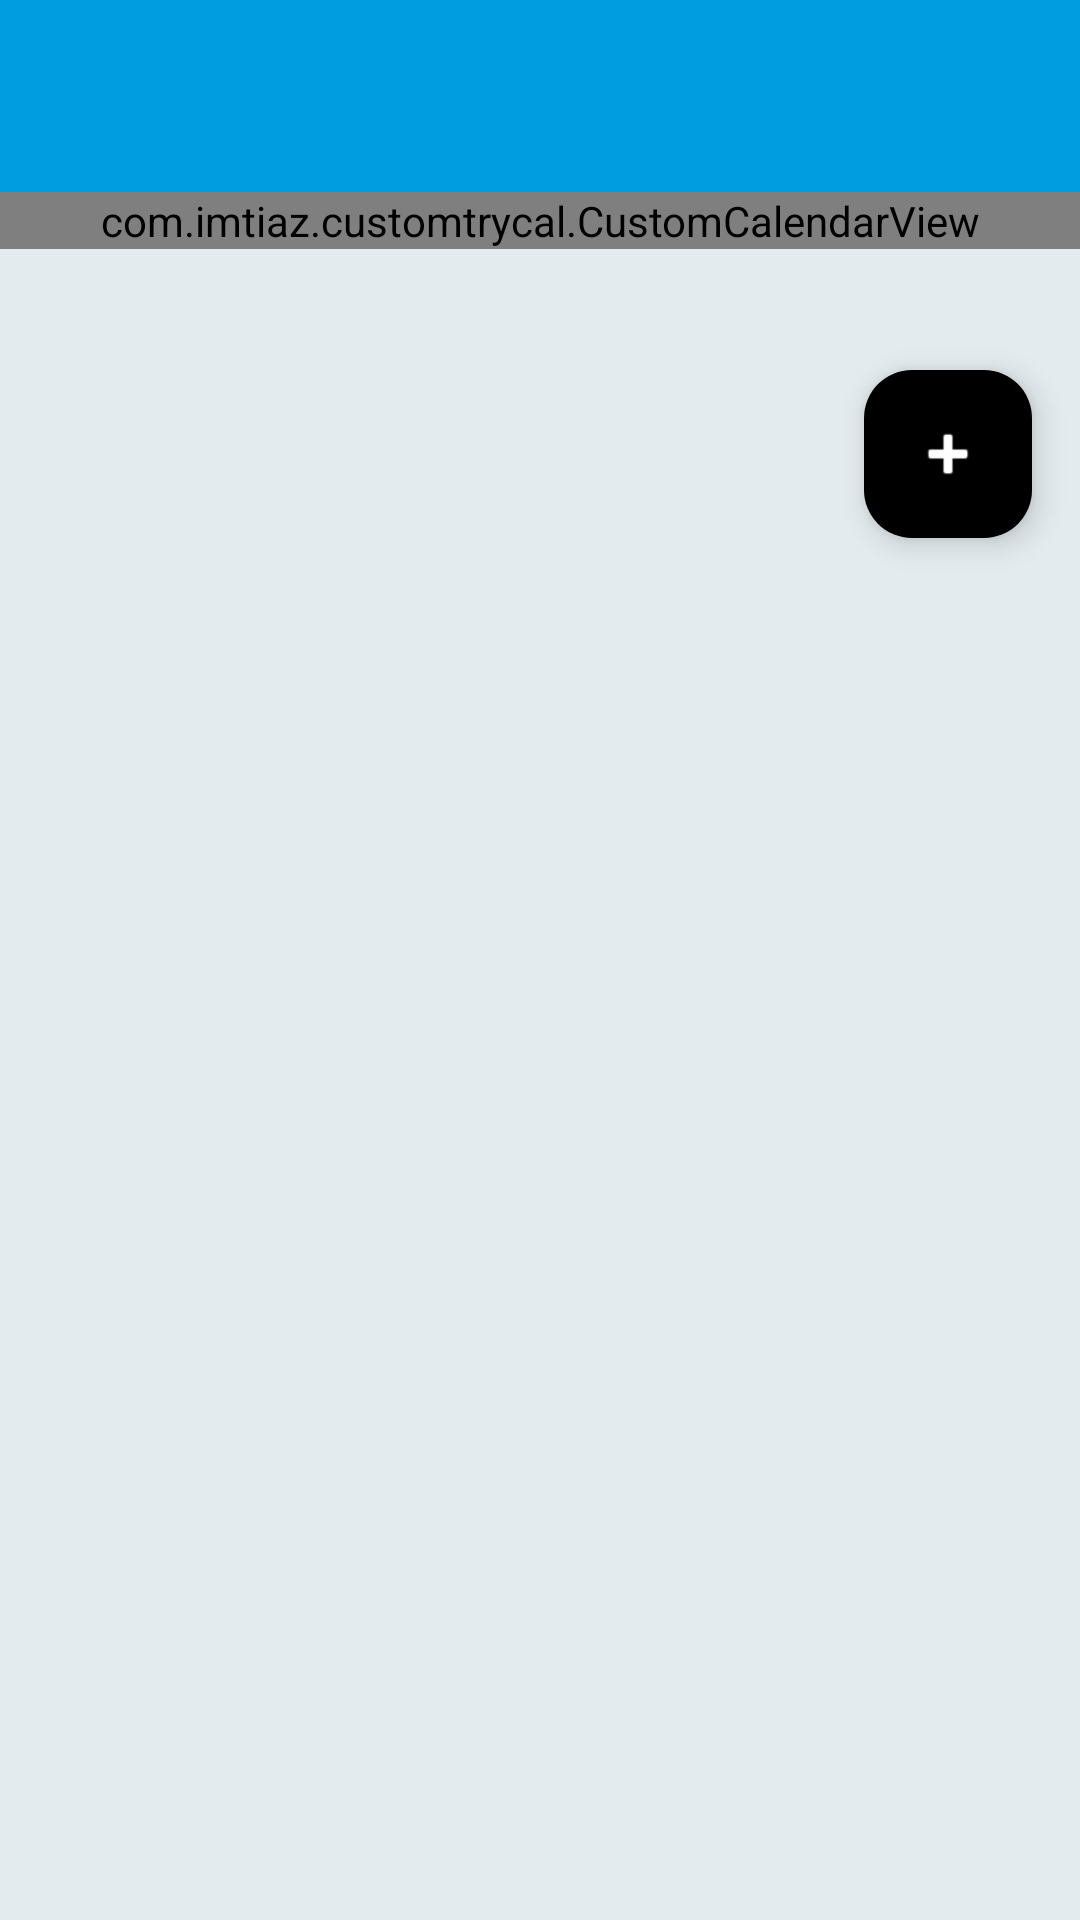

Locate icon controls on the screen. Image size 1080*1920, boxes as box(x1, y1, x2, y2).
add: box(864, 370, 1032, 538)
